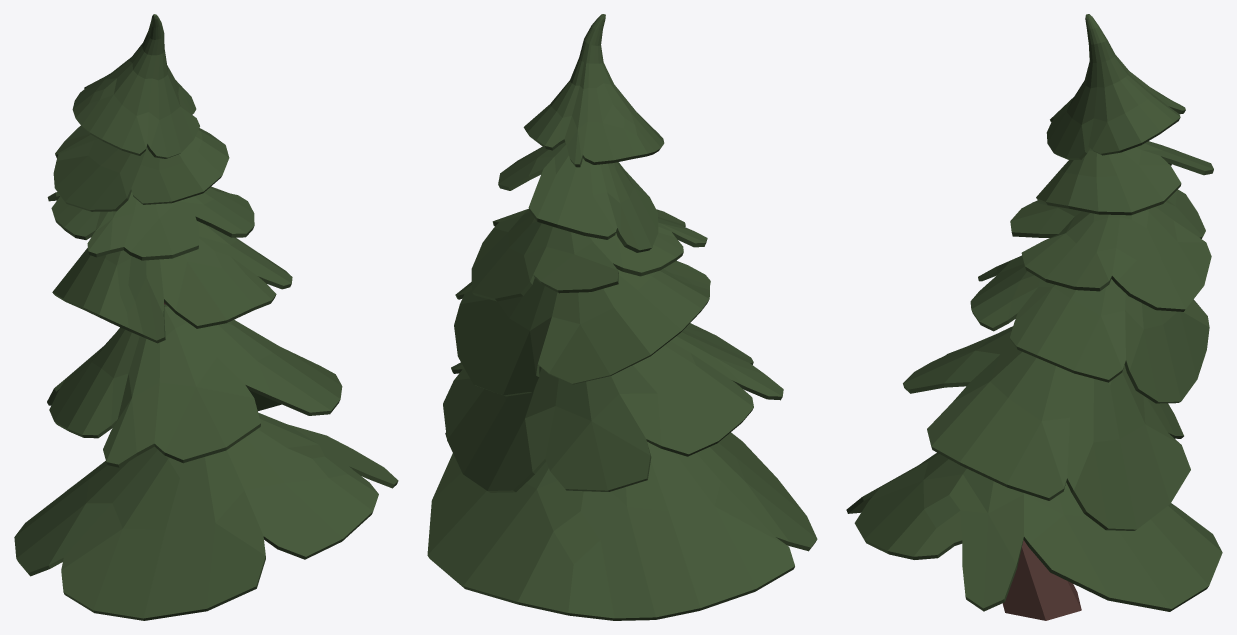
File: PineTree_3.glb
The picture shows the model from 3 angles, left to right: view 1: azimuth 30°, elevation 25°; view 2: azimuth 150°, elevation 25°; view 3: azimuth 270°, elevation 25°; orthographic projection. The views are drawn at different scales.
Visible parts, largest first — view 1: PineTree_3; view 2: PineTree_3; view 3: PineTree_3.
Boxes of the visible parts, left/top/right/bottom form: PineTree_3: left=14, top=14, right=398, bottom=620; PineTree_3: left=427, top=14, right=817, bottom=620; PineTree_3: left=846, top=14, right=1222, bottom=620.
Size of the model in its own units: 2.16 by 3.3 by 1.95.
